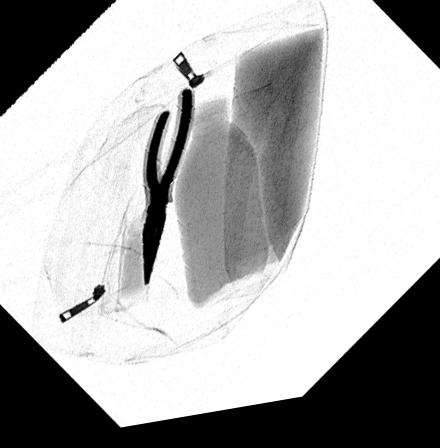Pliers: (140, 90, 198, 294)
